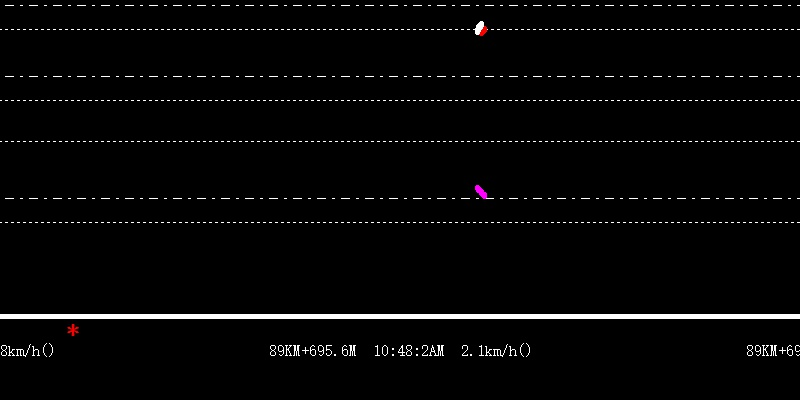face_s: (473, 18, 489, 38)
star: (65, 324, 81, 337)
